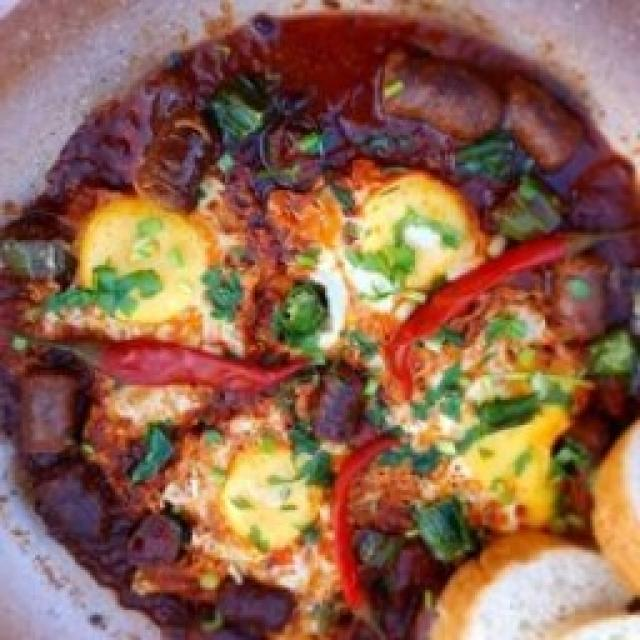Chakchouka: (0, 16, 640, 640)
